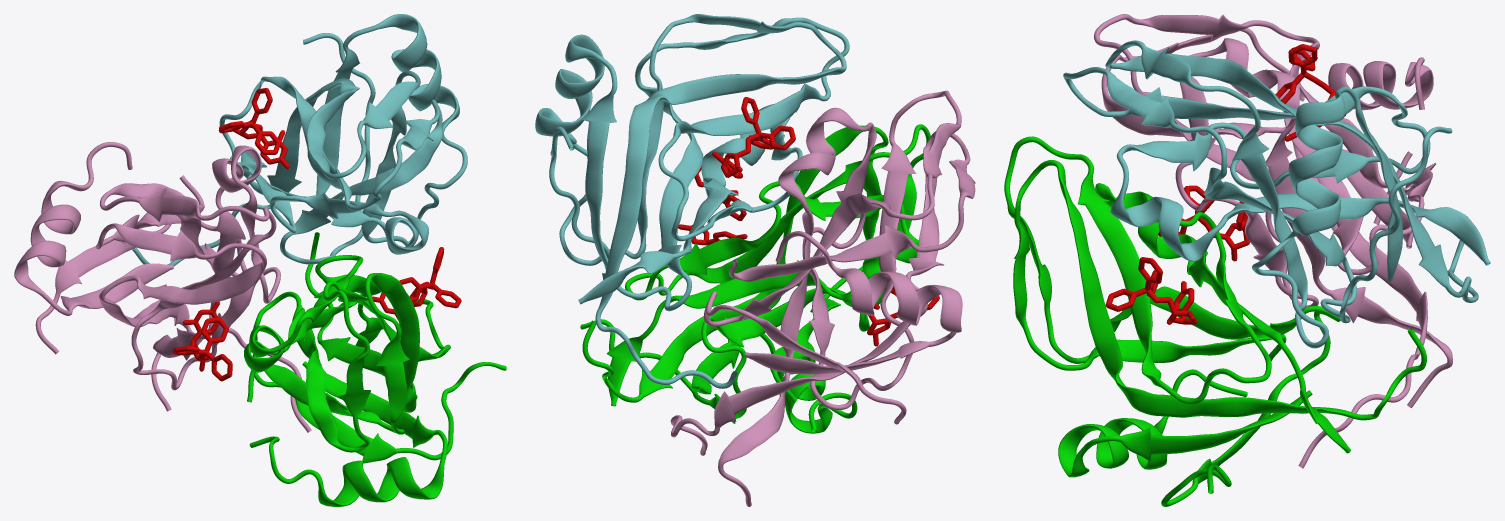
Rendered from 1vyq.gltf.
3 renders of one model, left to right at view 1: azimuth 30°, elevation 25°; view 2: azimuth 150°, elevation 25°; view 3: azimuth 270°, elevation 25°, orthographic. The views are drawn at different scales.
Visible parts, largest first — view 1: 1vyq; view 2: 1vyq; view 3: 1vyq.
Part boxes in pixels (x1,y1,x2,y2): 1vyq: (14,14,506,506); 1vyq: (535,14,975,506); 1vyq: (1004,14,1490,506).
Size of the model in its own units: 2.95 by 2.6 by 2.56.
